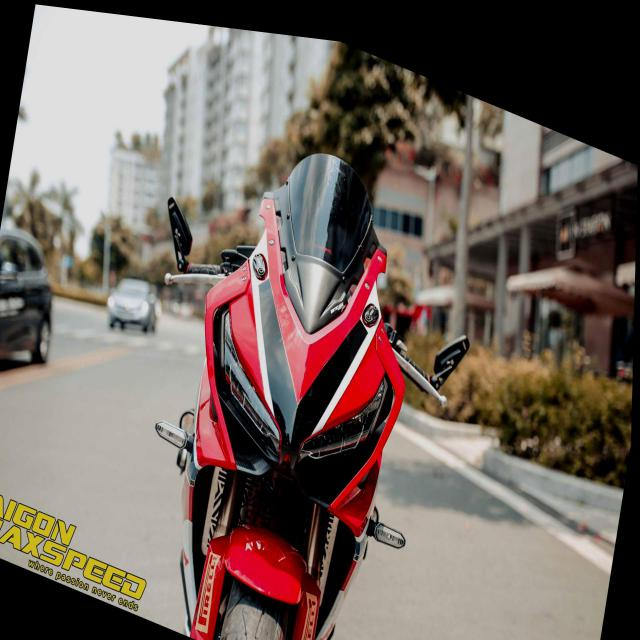CBR650R: (109, 78, 493, 640)
